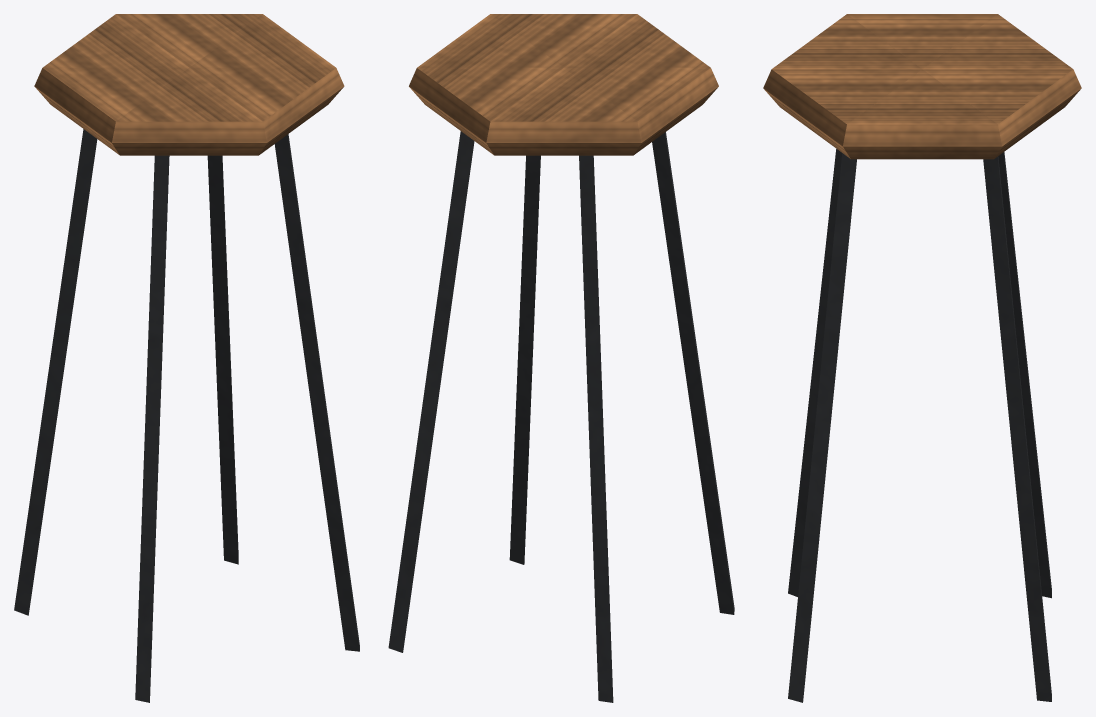
File: SM_Morin_Sgabello_LOD2.fbx
The picture shows the model from 3 angles, left to right: view 1: azimuth 30°, elevation 25°; view 2: azimuth 150°, elevation 25°; view 3: azimuth 270°, elevation 25°; orthographic projection. The views are drawn at different scales.
Visible parts, largest first — view 1: SM_Morin_Sgabello_LOD2; view 2: SM_Morin_Sgabello_LOD2; view 3: SM_Morin_Sgabello_LOD2.
Boxes of the visible parts, left/top/right/bottom form: SM_Morin_Sgabello_LOD2: left=14, top=14, right=359, bottom=702; SM_Morin_Sgabello_LOD2: left=388, top=14, right=734, bottom=702; SM_Morin_Sgabello_LOD2: left=763, top=14, right=1081, bottom=702.
Size of the model in its own units: 32.91 by 38 by 76.15.
Materials: 1 (1 with a texture image).
